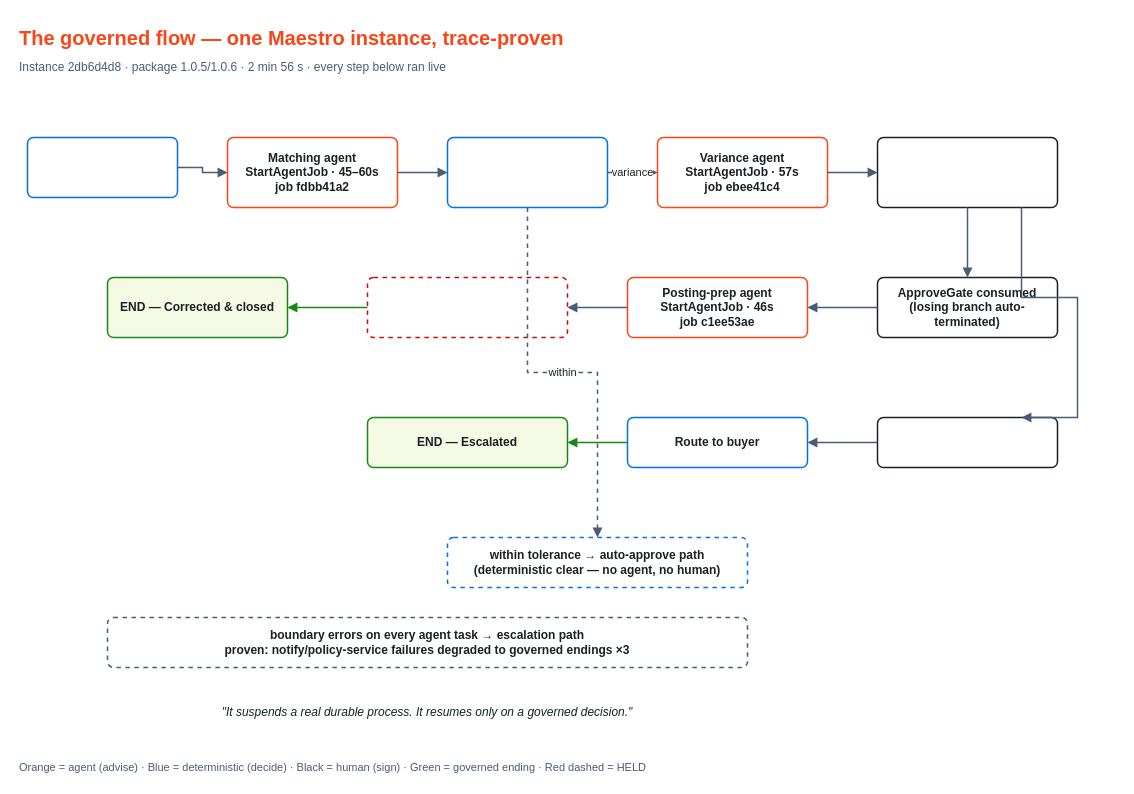
This 1134x794 diagram has some shape labels left out. Here are the shapes that lost their labels. From the top down, the centre of each, then its label:
the point at 102,167: START Supplier invoice received
the point at 527,172: Tolerance gate deterministic JS · 1.1s 2% price · 1 unit
the point at 967,172: EVENT GATEWAY two armed message events instance SUSPENDS
the point at 467,307: Update PO — prepared & HELD no write to SAP, by design
the point at 967,442: EscalateGate consumed
